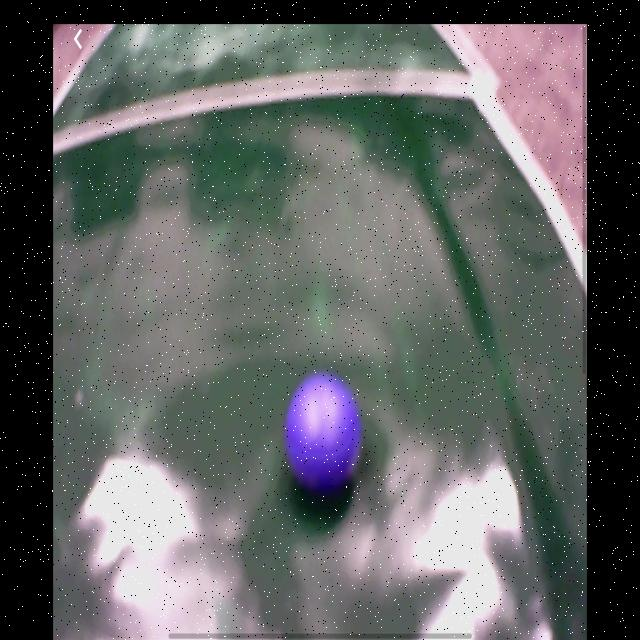ball: (286, 371, 365, 499)
